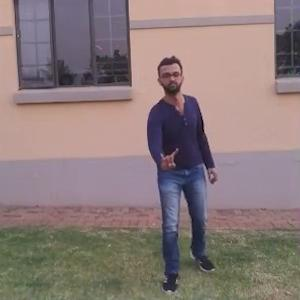takeoff-hand: (156, 142, 180, 174)
